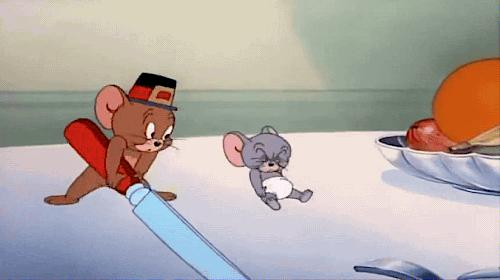jerry: (42, 72, 182, 210)
